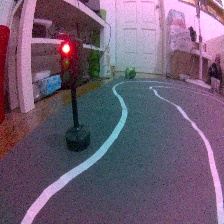red: (58, 36, 91, 154)
